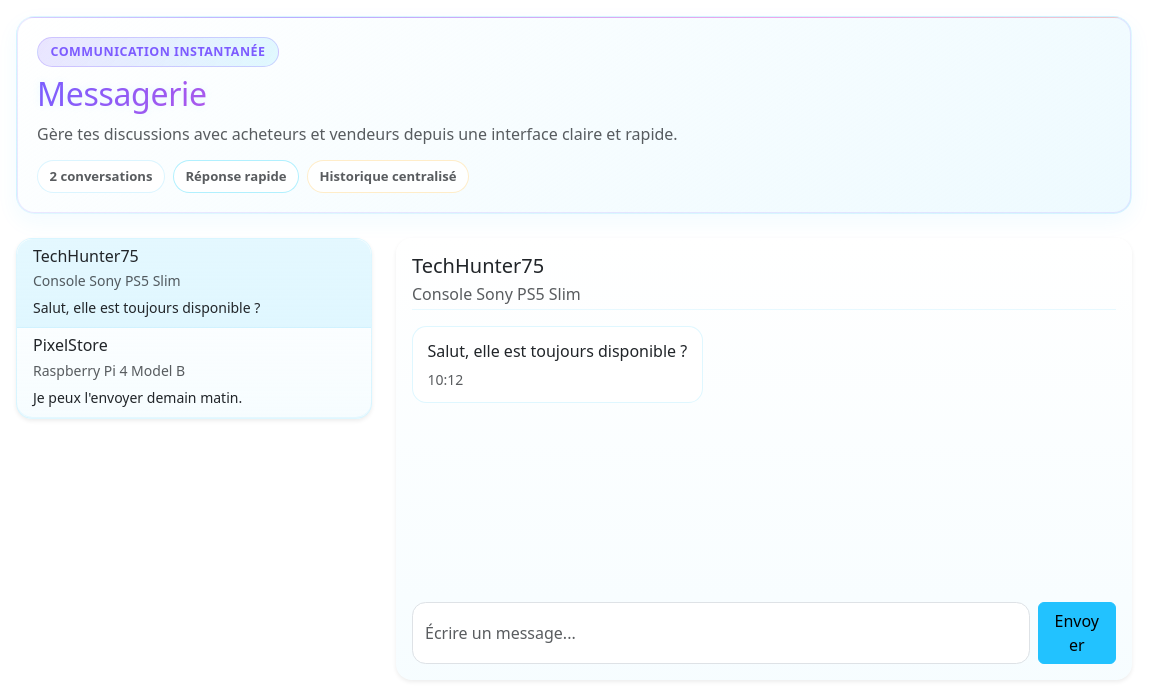
Test case: Messages › appends a sent message to the active thread
The width and height of the screenshot is (1149, 699).
expect the 2nd text "Console Sony PS5 Slim" is shown: met, box [412, 283, 581, 305]
Type "C'est encore dispo ?" into the field with placeholder "Écrire un message..." at (721,634), box [412, 602, 1030, 664]
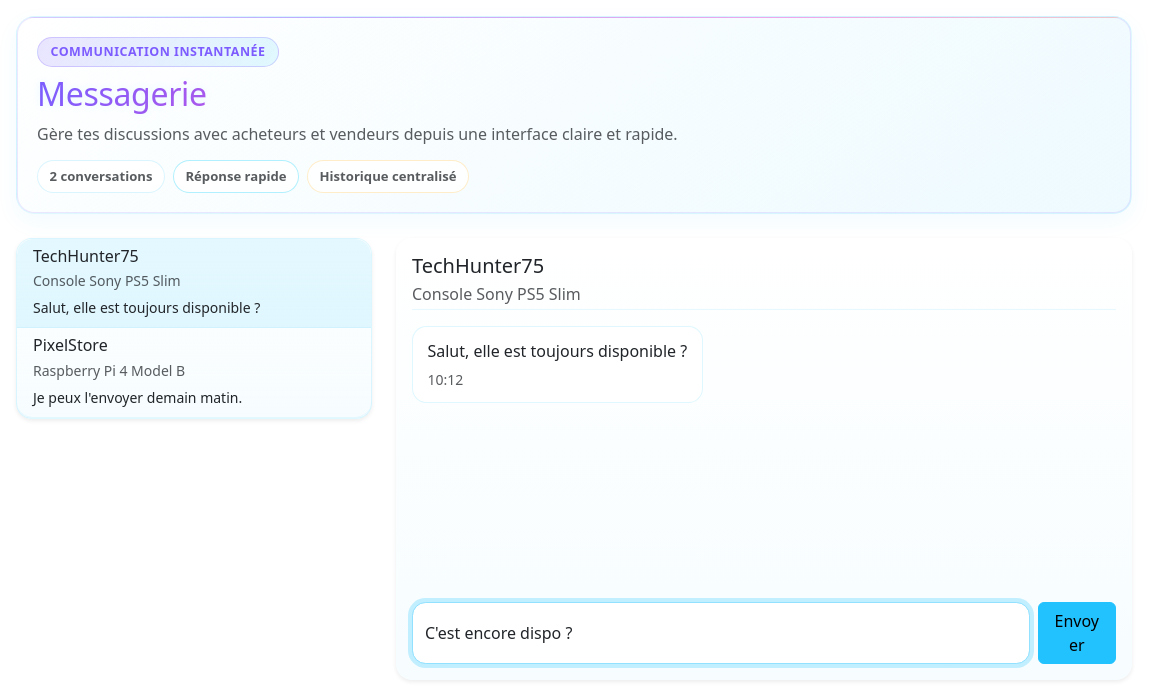
Click the button "Envoyer" at (1077,634), box [1038, 602, 1116, 664]
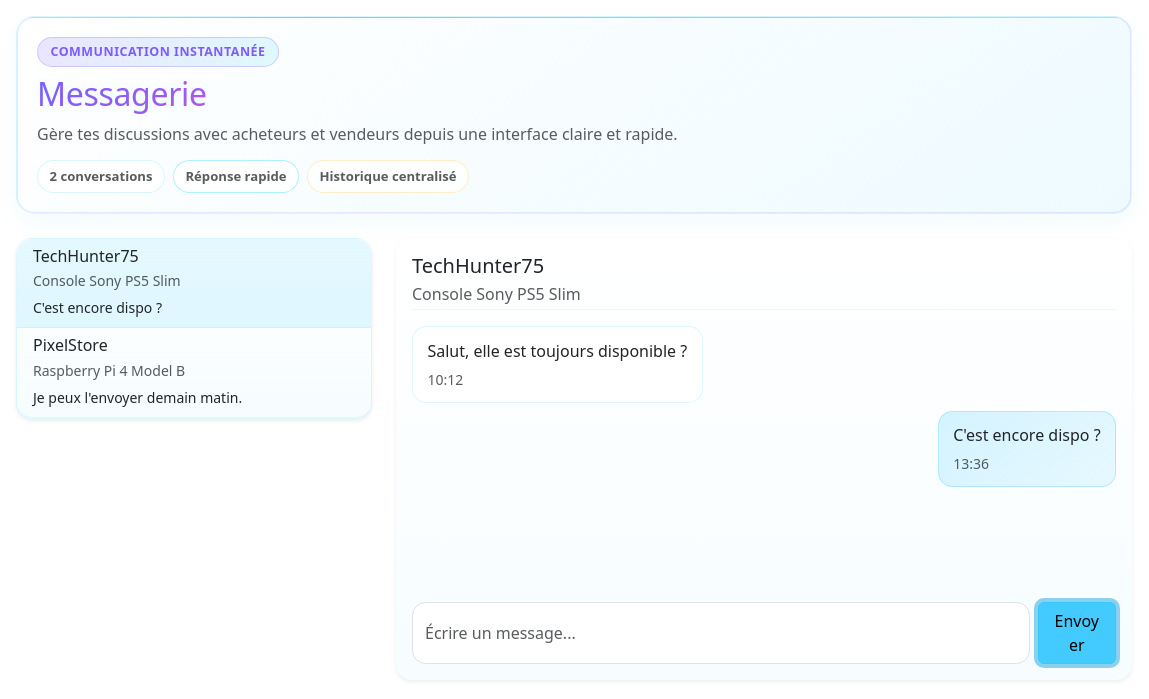
expect the 2nd text "C'est encore dispo ?" is shown: met, box [953, 423, 1101, 447]
expect the field with placeholder "Écrire un message..." is empty: met, box [412, 602, 1030, 664]
